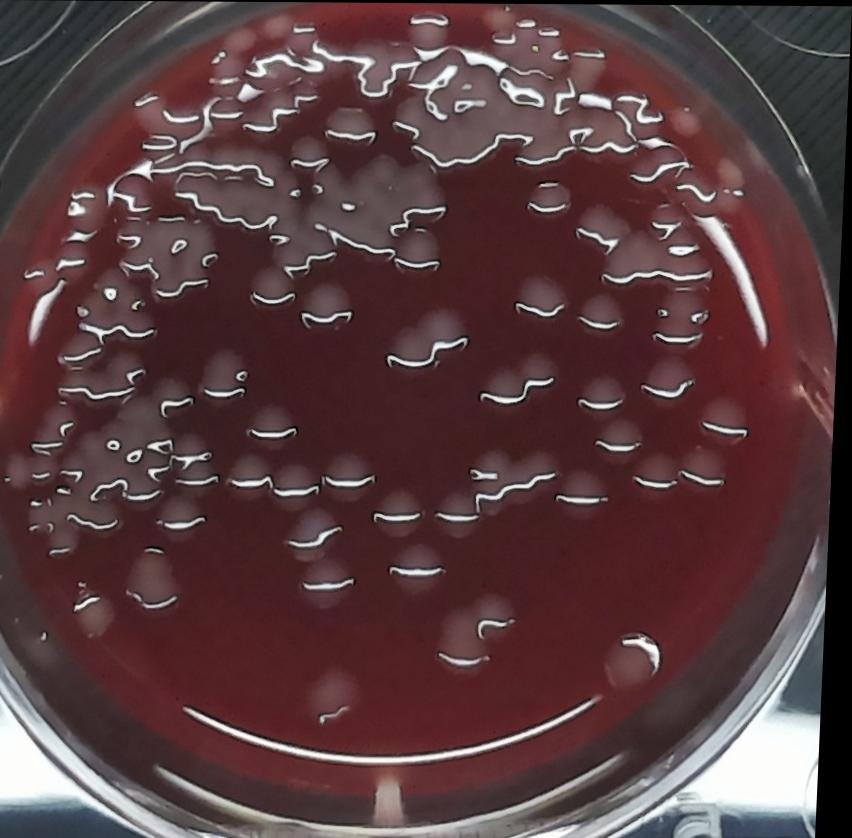vharveyi: (436, 439, 564, 548), (379, 303, 479, 384), (604, 623, 672, 694), (556, 463, 624, 527), (302, 554, 368, 619), (320, 442, 387, 502)
